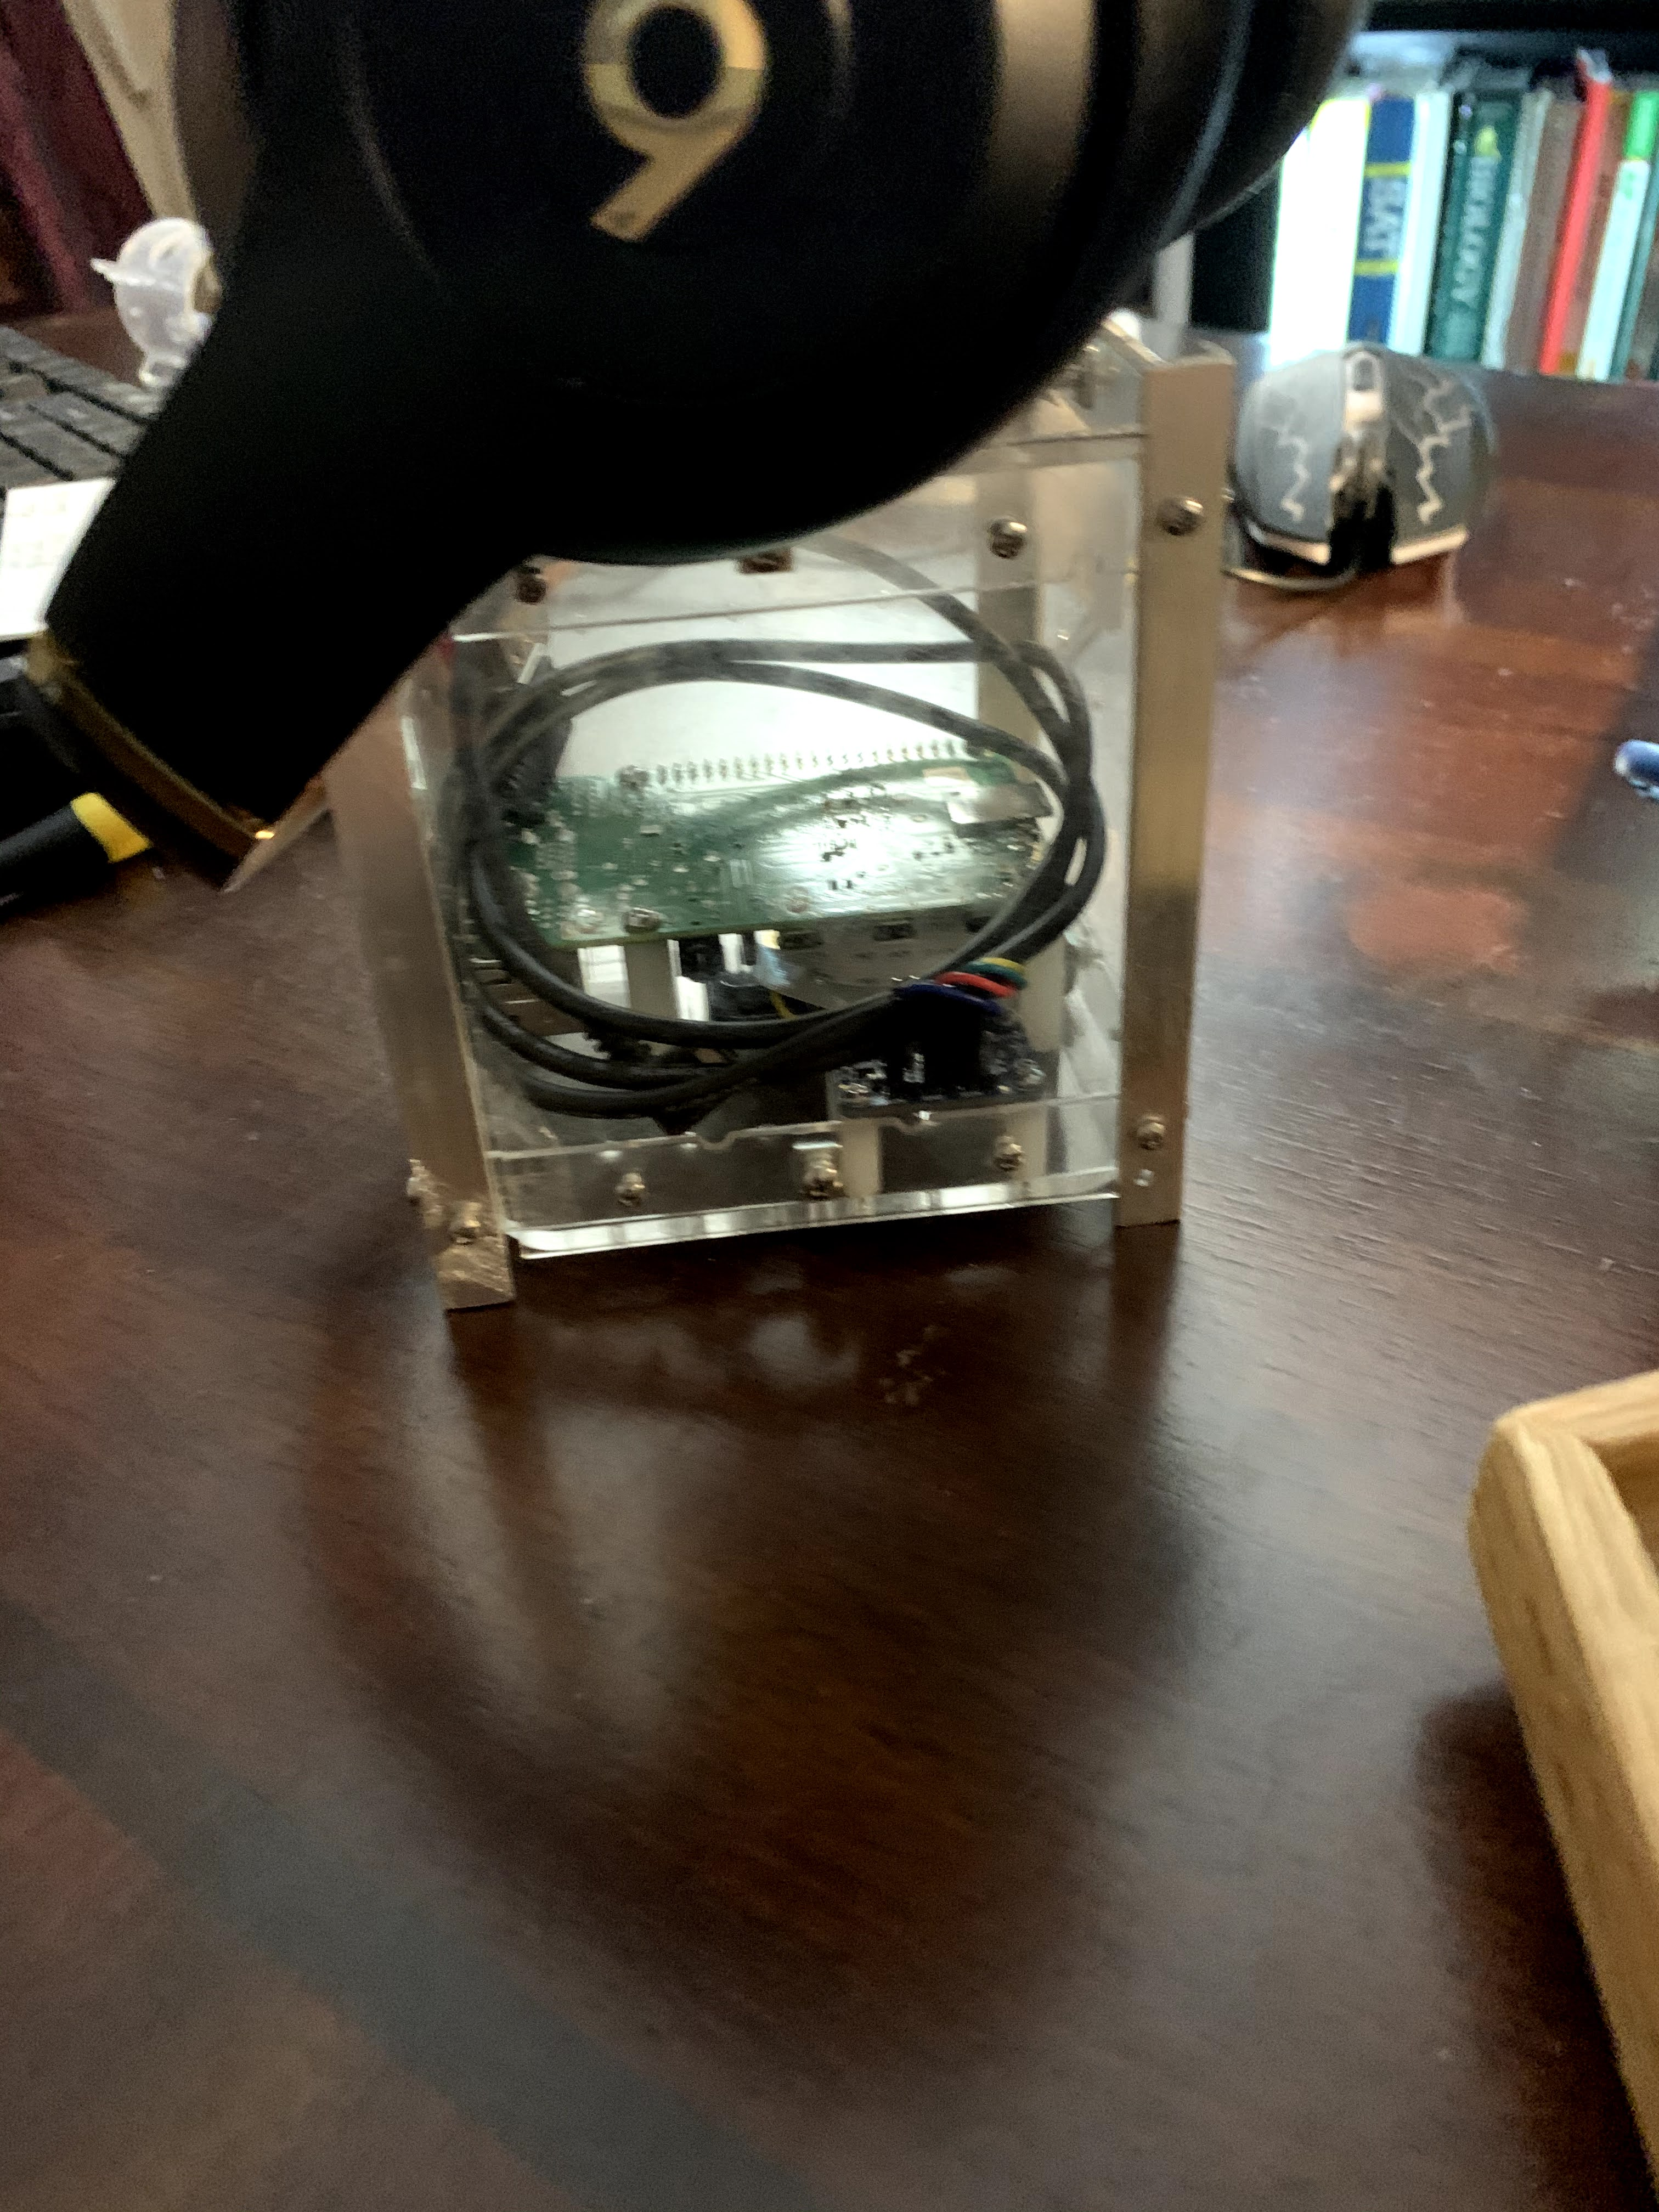Space-debris-cubesat: (328, 331, 1284, 1392)
